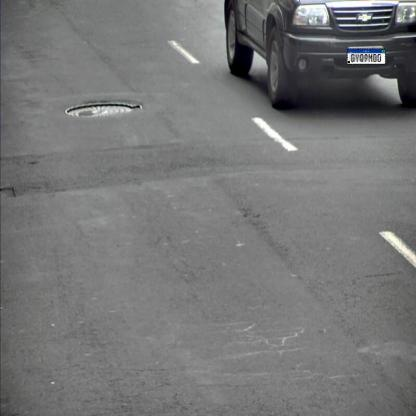PlacaM: (347, 48, 386, 64)
